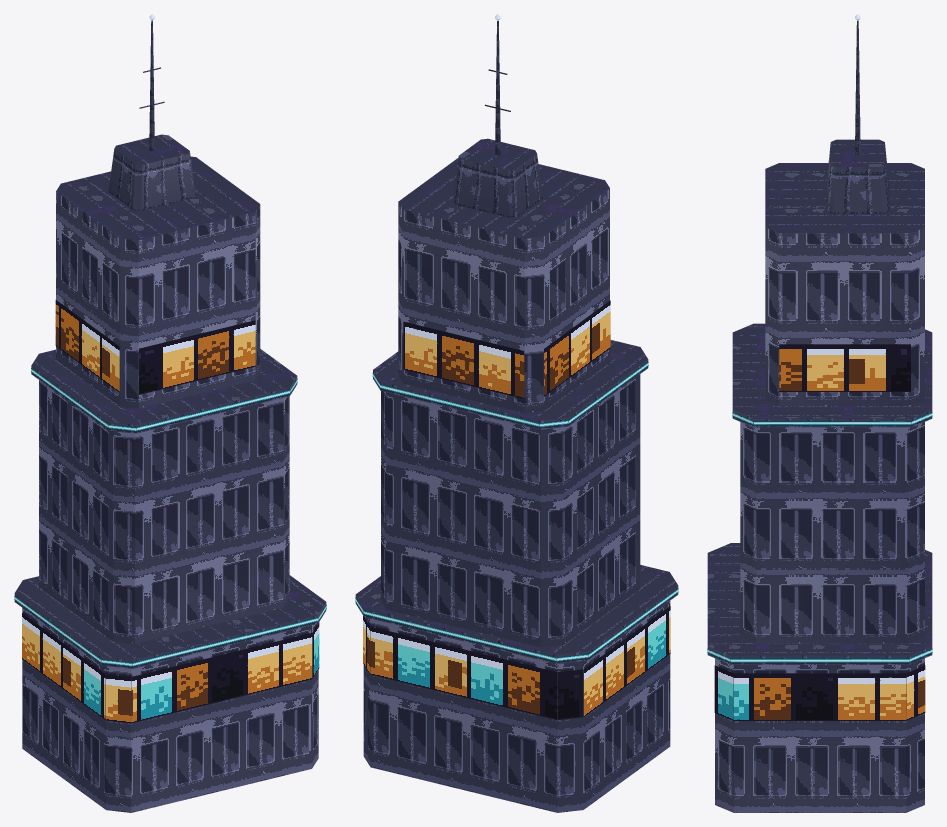
The model's file is cytower.setback.glb.
3 renders of one model, left to right at view 1: azimuth 30°, elevation 25°; view 2: azimuth 150°, elevation 25°; view 3: azimuth 270°, elevation 25°, orthographic. The views are drawn at different scales.
Parts seen in each view (by area): view 1: kit_tower, kit_card_windows, kit_crown; view 2: kit_tower, kit_card_windows, kit_crown; view 3: kit_tower, kit_card_windows, kit_crown.
Part boxes in pixels (box(x1,y1,x2,y2)): kit_tower: box(14, 134, 326, 812); kit_card_windows: box(14, 300, 326, 723); kit_crown: box(139, 14, 164, 150); kit_tower: box(355, 138, 678, 812); kit_card_windows: box(355, 300, 678, 719); kit_crown: box(485, 14, 510, 155); kit_tower: box(707, 139, 932, 812); kit_card_windows: box(707, 344, 932, 720); kit_crown: box(855, 14, 860, 154).
Bounding box in the file's own units: 12.75 × 39.17 × 10.75.
Materials: 7 (7 with a texture image).
